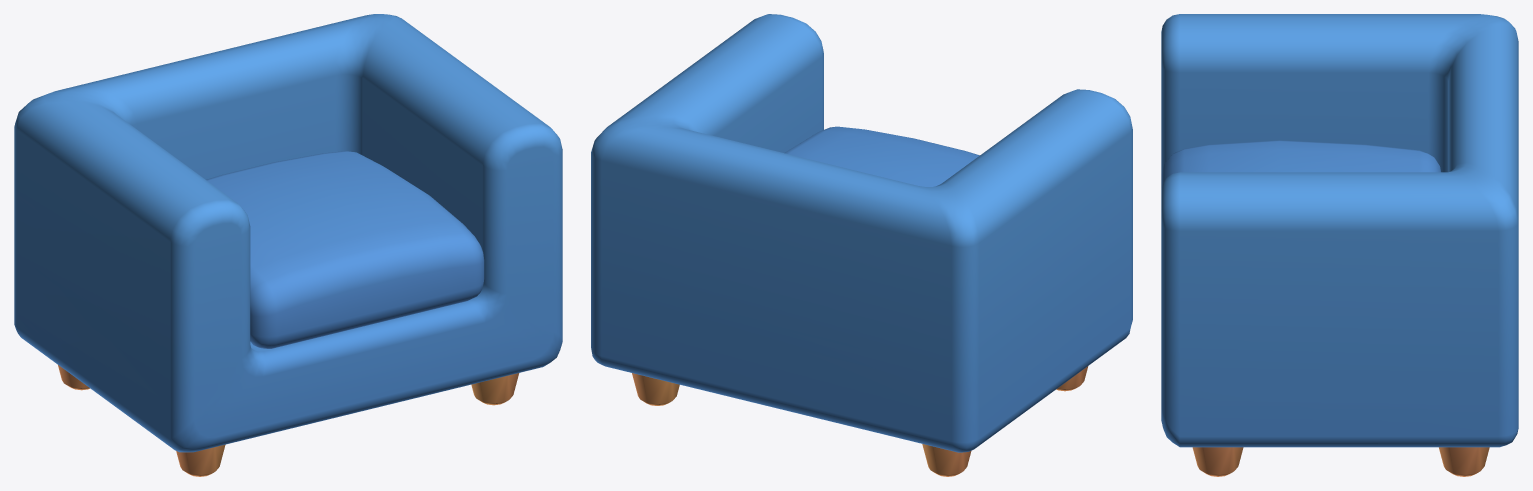
File: Armchair_02.glb
The picture shows the model from 3 angles, left to right: view 1: azimuth 30°, elevation 25°; view 2: azimuth 150°, elevation 25°; view 3: azimuth 270°, elevation 25°; orthographic projection. The views are drawn at different scales.
Parts seen in each view (by area): view 1: Armchair_02; view 2: Armchair_02; view 3: Armchair_02.
Part boxes in pixels (x1,y1,x2,y2): Armchair_02: [14, 14, 562, 476]; Armchair_02: [591, 14, 1132, 476]; Armchair_02: [1161, 14, 1518, 476].
Size of the model in its own units: 1 by 0.7 by 0.765.
1 material, 1 textured.
